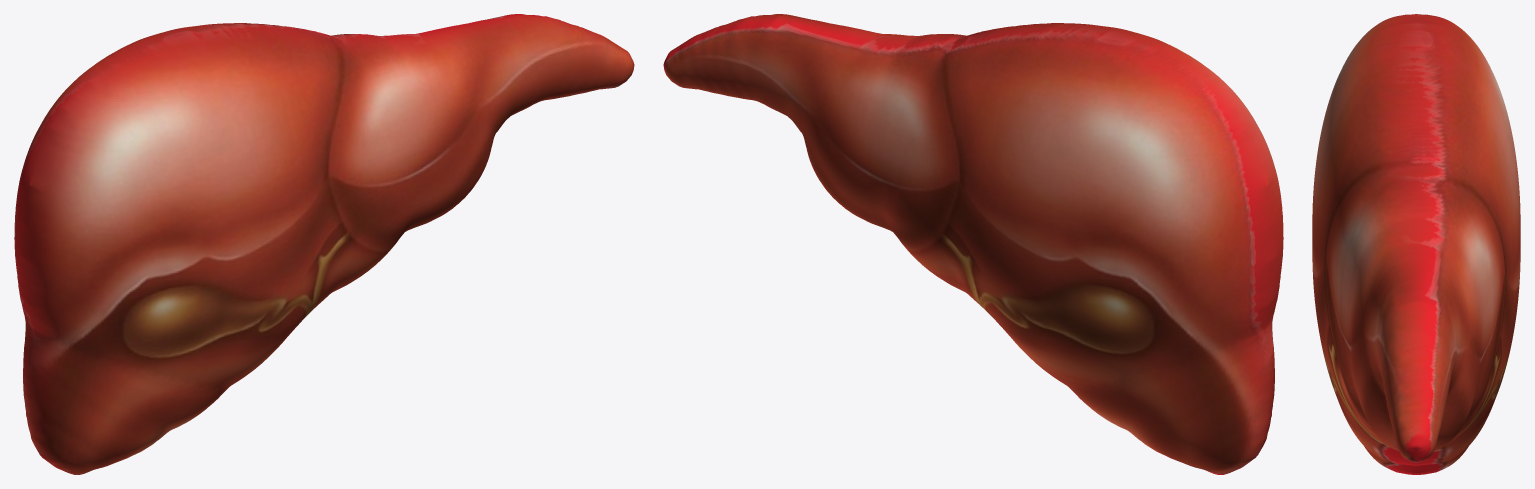
Rendered from liver.glb.
3 views of the same model, side by side, from view 1: azimuth 30°, elevation 25°; view 2: azimuth 150°, elevation 25°; view 3: azimuth 270°, elevation 25° (orthographic). The views are drawn at different scales.
Visible parts, largest first — view 1: mesh_id32; view 2: mesh_id32; view 3: mesh_id32.
Boxes of the visible parts, x1=… form: mesh_id32: x1=14, y1=14, x2=634, y2=474; mesh_id32: x1=663, y1=14, x2=1283, y2=474; mesh_id32: x1=1312, y1=14, x2=1520, y2=474.
Size of the model in its own units: 0.7967 by 0.5142 by 0.2038.
1 material, 1 textured.
